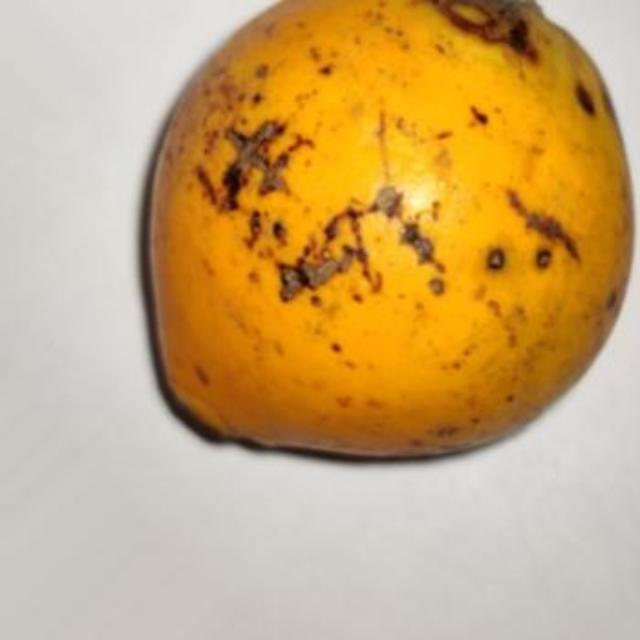good: (139, 0, 633, 463)
